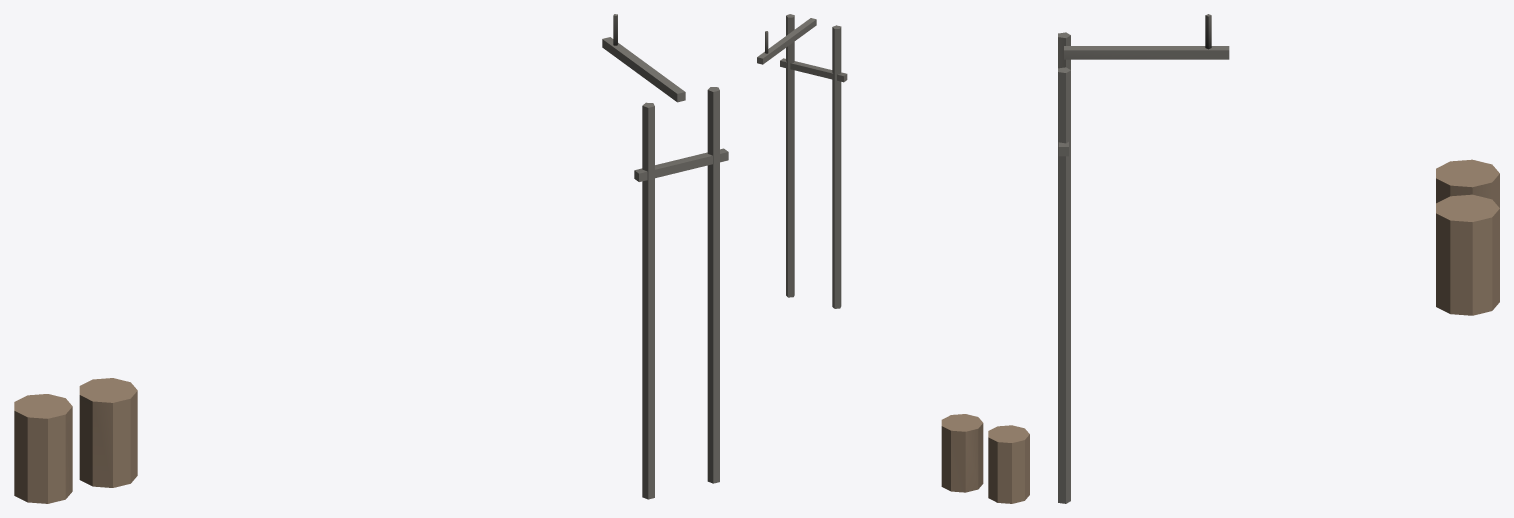
The model's file is workshop_l2.glb.
3 views of the same model, side by side, from view 1: azimuth 30°, elevation 25°; view 2: azimuth 150°, elevation 25°; view 3: azimuth 270°, elevation 25° (orthographic). The views are drawn at different scales.
Visible parts, largest first — view 1: tleg; view 2: tleg; view 3: tleg.
Boxes of the visible parts, x1=… form: tleg: x1=14, y1=14, x2=728, y2=503; tleg: x1=757, y1=14, x2=1029, y2=503; tleg: x1=1058, y1=14, x2=1499, y2=503.
Size of the model in its own units: 3.23 by 2.65 by 2.14.
